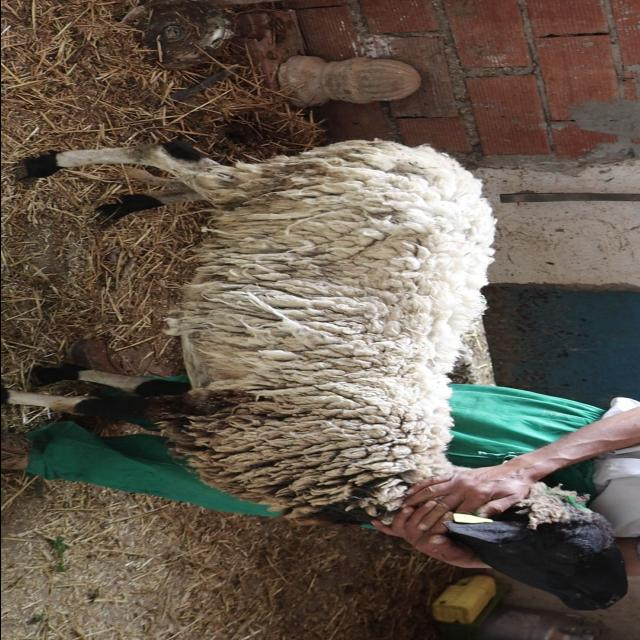Score_2: (1, 140, 494, 525)
